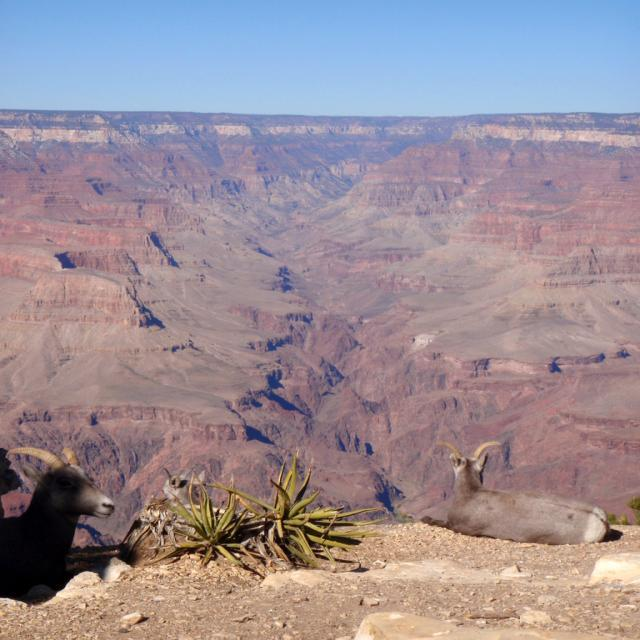Goat: (435, 439, 622, 545), (1, 445, 117, 599)
